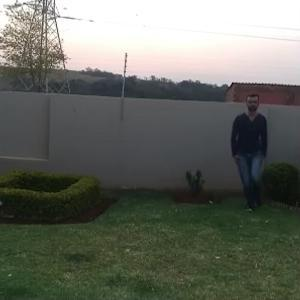follow: (220, 95, 268, 203)
